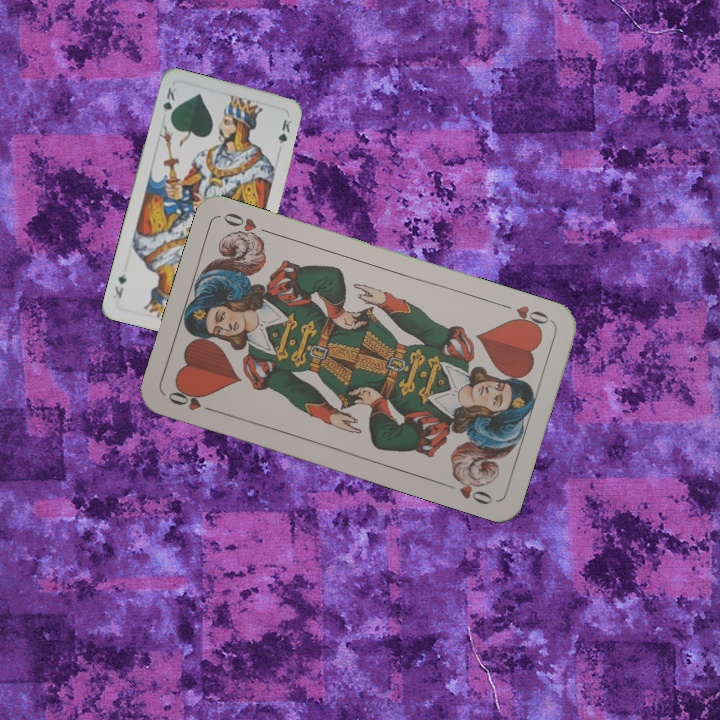GK: (159, 83, 179, 123)
HO: (496, 299, 554, 333), (164, 383, 220, 416)
